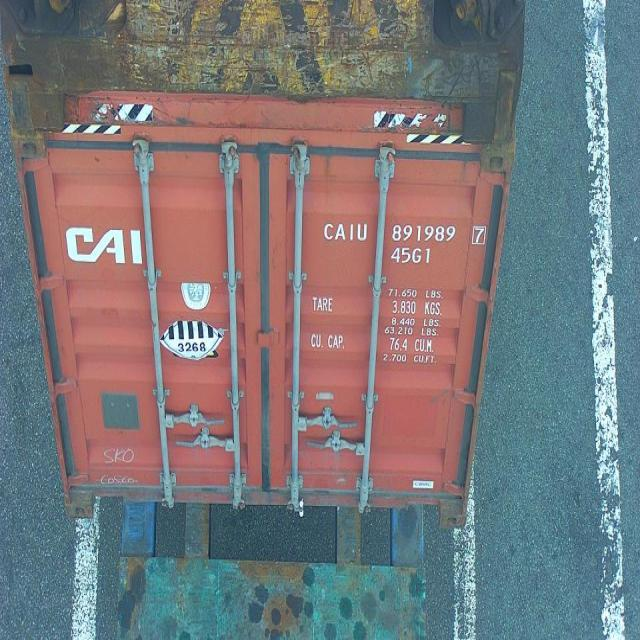ISO: (390, 247, 432, 266)
container_number: (326, 220, 488, 244)
